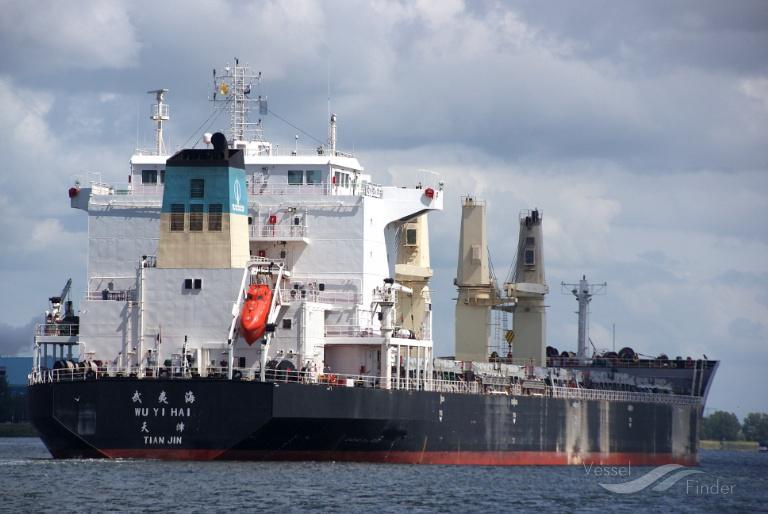OCR: (132, 402, 193, 453)
